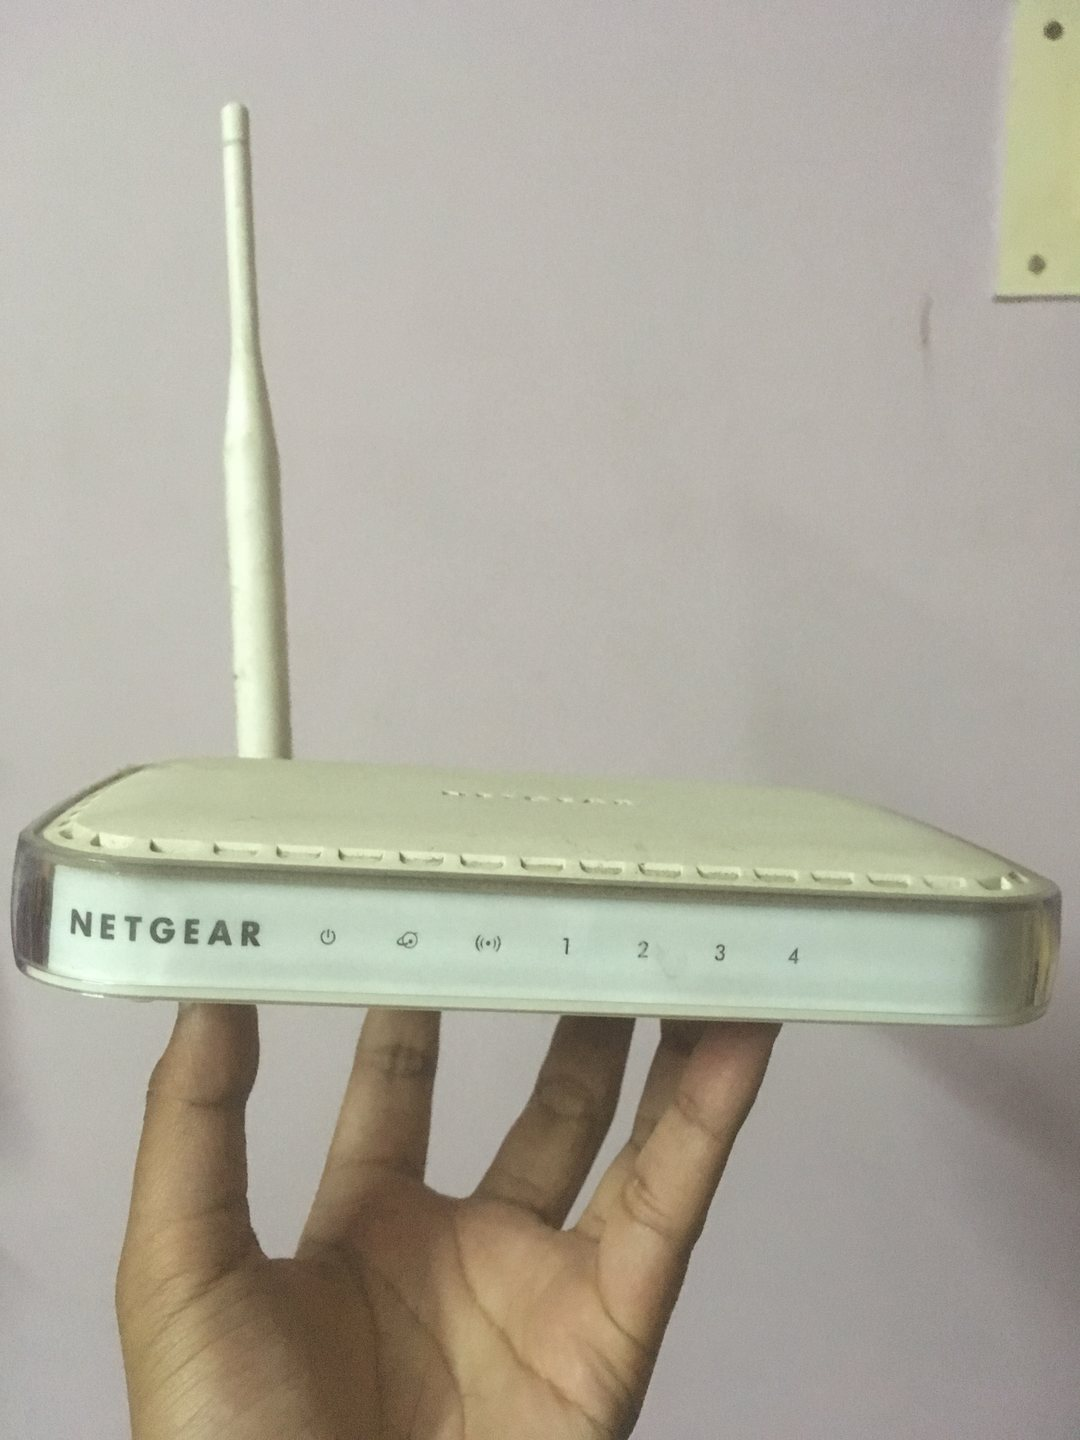NETGEAR: (60, 899, 273, 956)
modem: (10, 839, 1073, 1028)
